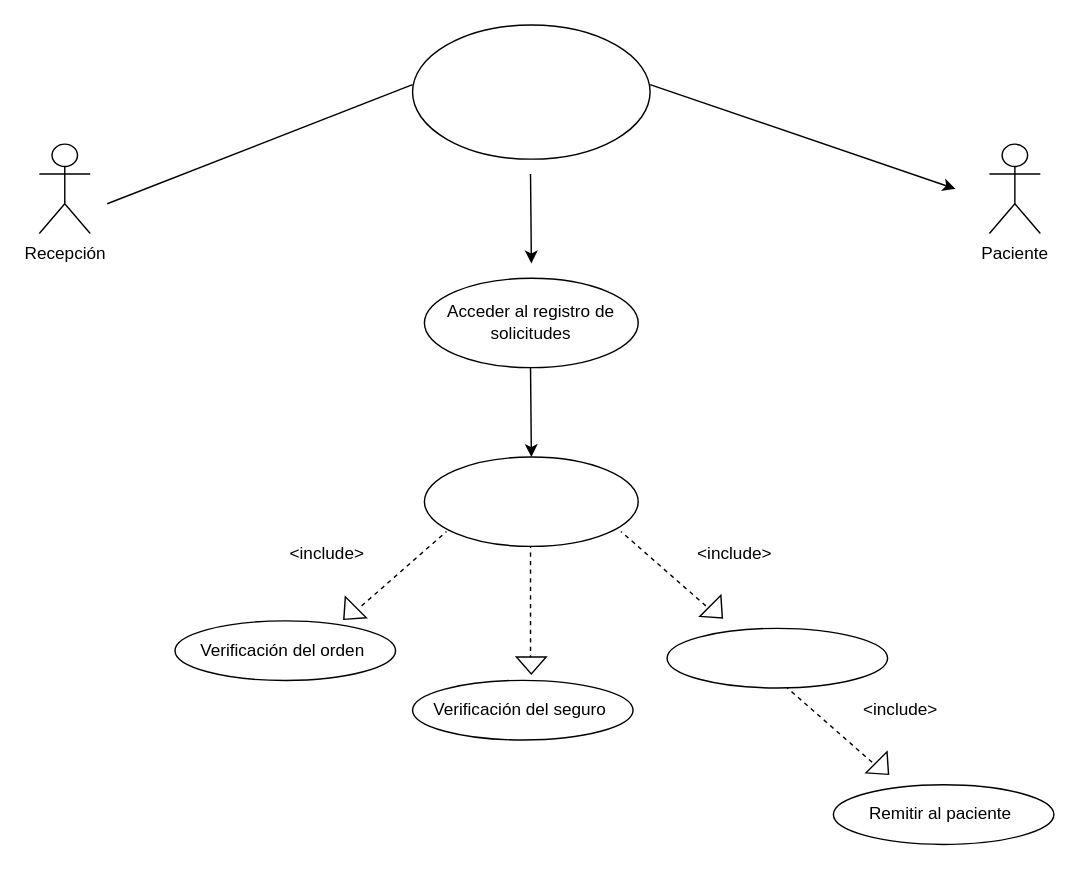
Image size: 1080x869. Some labels were removed from this diagram. The shapes that lost their labels are listed below. From the top down, each one's centre as x and y in pixels, then its label:
[530,91]: Validación de agendamiento
[530,501]: Selección de solicitud
[777,657]: Autorización o Resición
